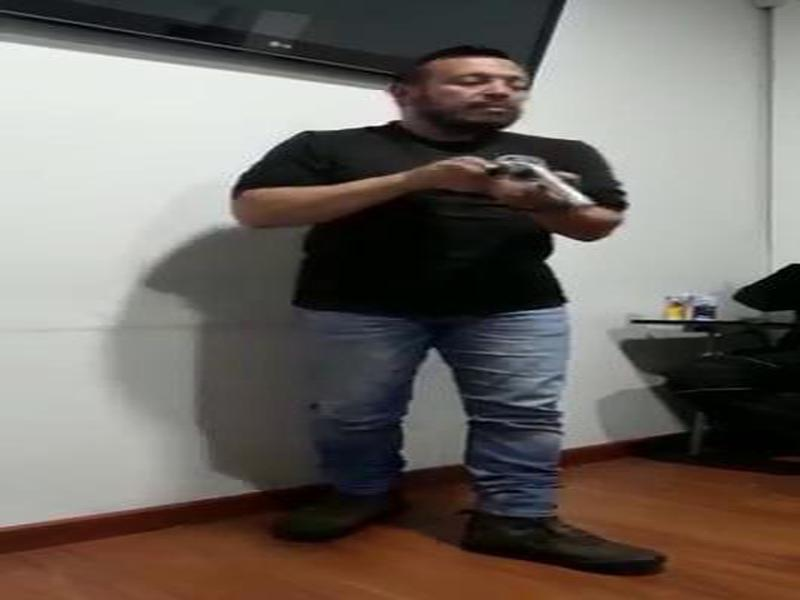Revolver: (470, 130, 604, 238)
